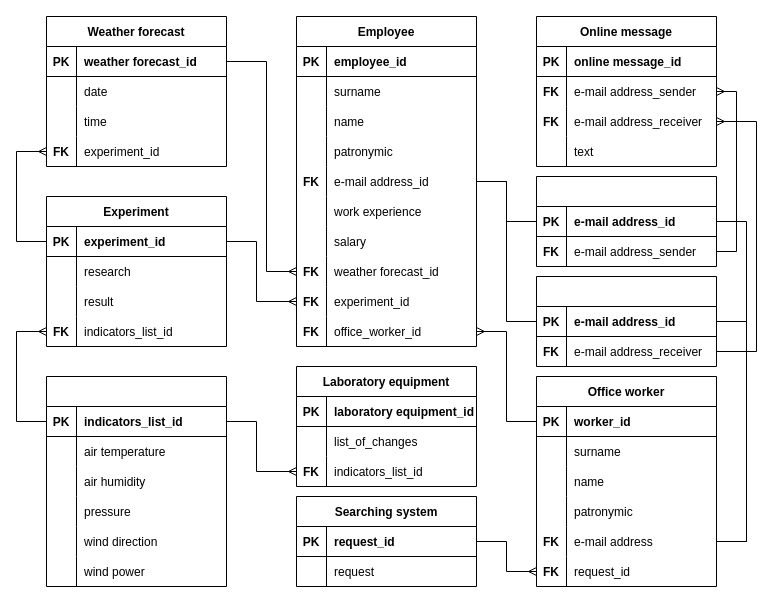
This 773x603 diagram has some shape labels left out. The shapes that lost their labels are listed below. From the top down, each one's box as (x1, y1, x2, y2) in pixels, then its label:
(536, 176, 716, 266): Sender e-mail address
(536, 276, 716, 366): Receiver e-mail address
(46, 376, 226, 586): Equipment indicators
